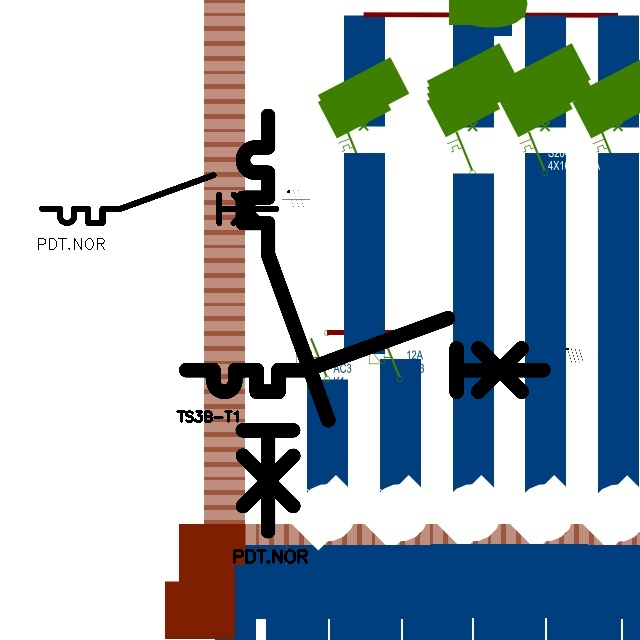interruptor_termomagnetico: (232, 105, 339, 542), (177, 309, 552, 401), (36, 169, 282, 229)
